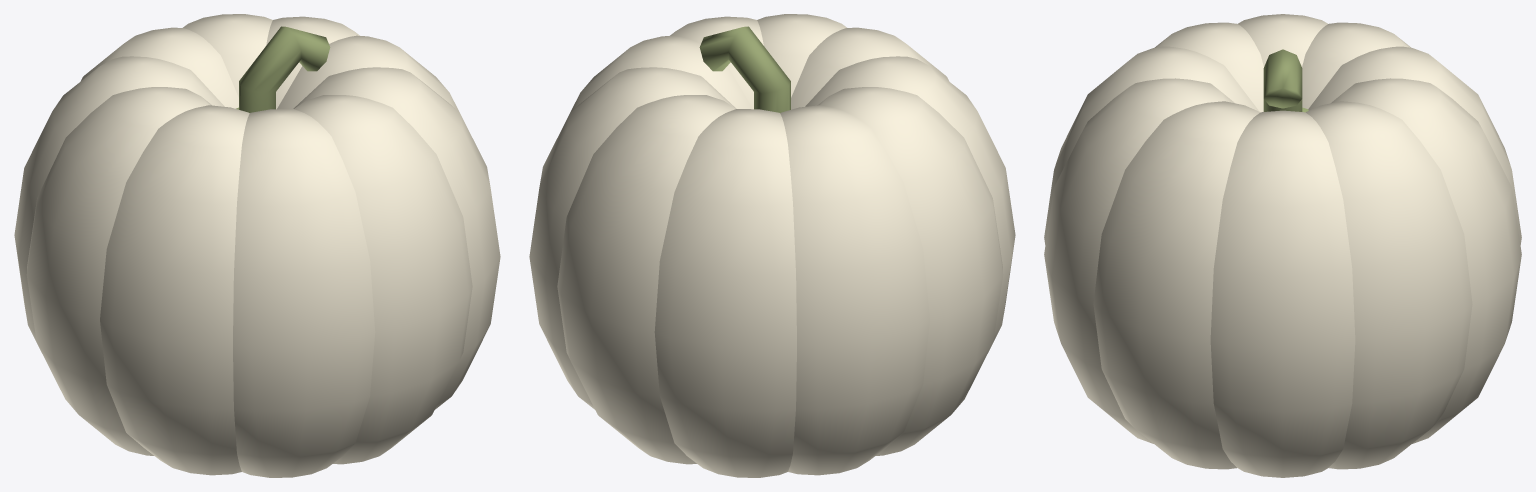
Rendered from Ghost_Pumpkin.fbx.
3 views of the same model, side by side, from view 1: azimuth 30°, elevation 25°; view 2: azimuth 150°, elevation 25°; view 3: azimuth 270°, elevation 25° (orthographic).
Parts seen in each view (by area): view 1: Ghost_Pumpkin_Mesh; view 2: Ghost_Pumpkin_Mesh; view 3: Ghost_Pumpkin_Mesh.
Part boxes in pixels (x1=…): Ghost_Pumpkin_Mesh: x1=14, y1=14, x2=500, y2=477; Ghost_Pumpkin_Mesh: x1=529, y1=14, x2=1015, y2=477; Ghost_Pumpkin_Mesh: x1=1044, y1=14, x2=1521, y2=477.
Bounding box in the file's own units: 0.25 × 0.2196 × 0.2456.
